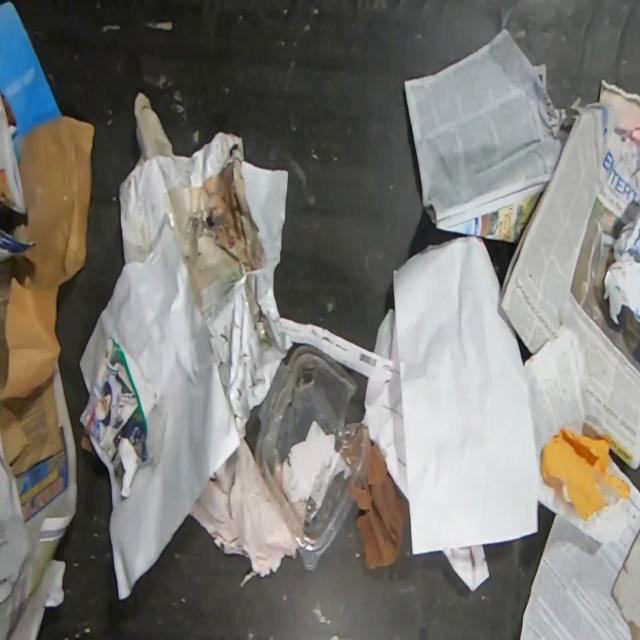cardboard: (604, 208, 640, 326)
rigid_plastic: (254, 344, 370, 570)
